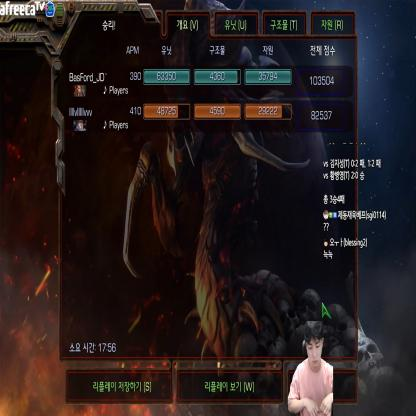streamer: (288, 321, 333, 416)
